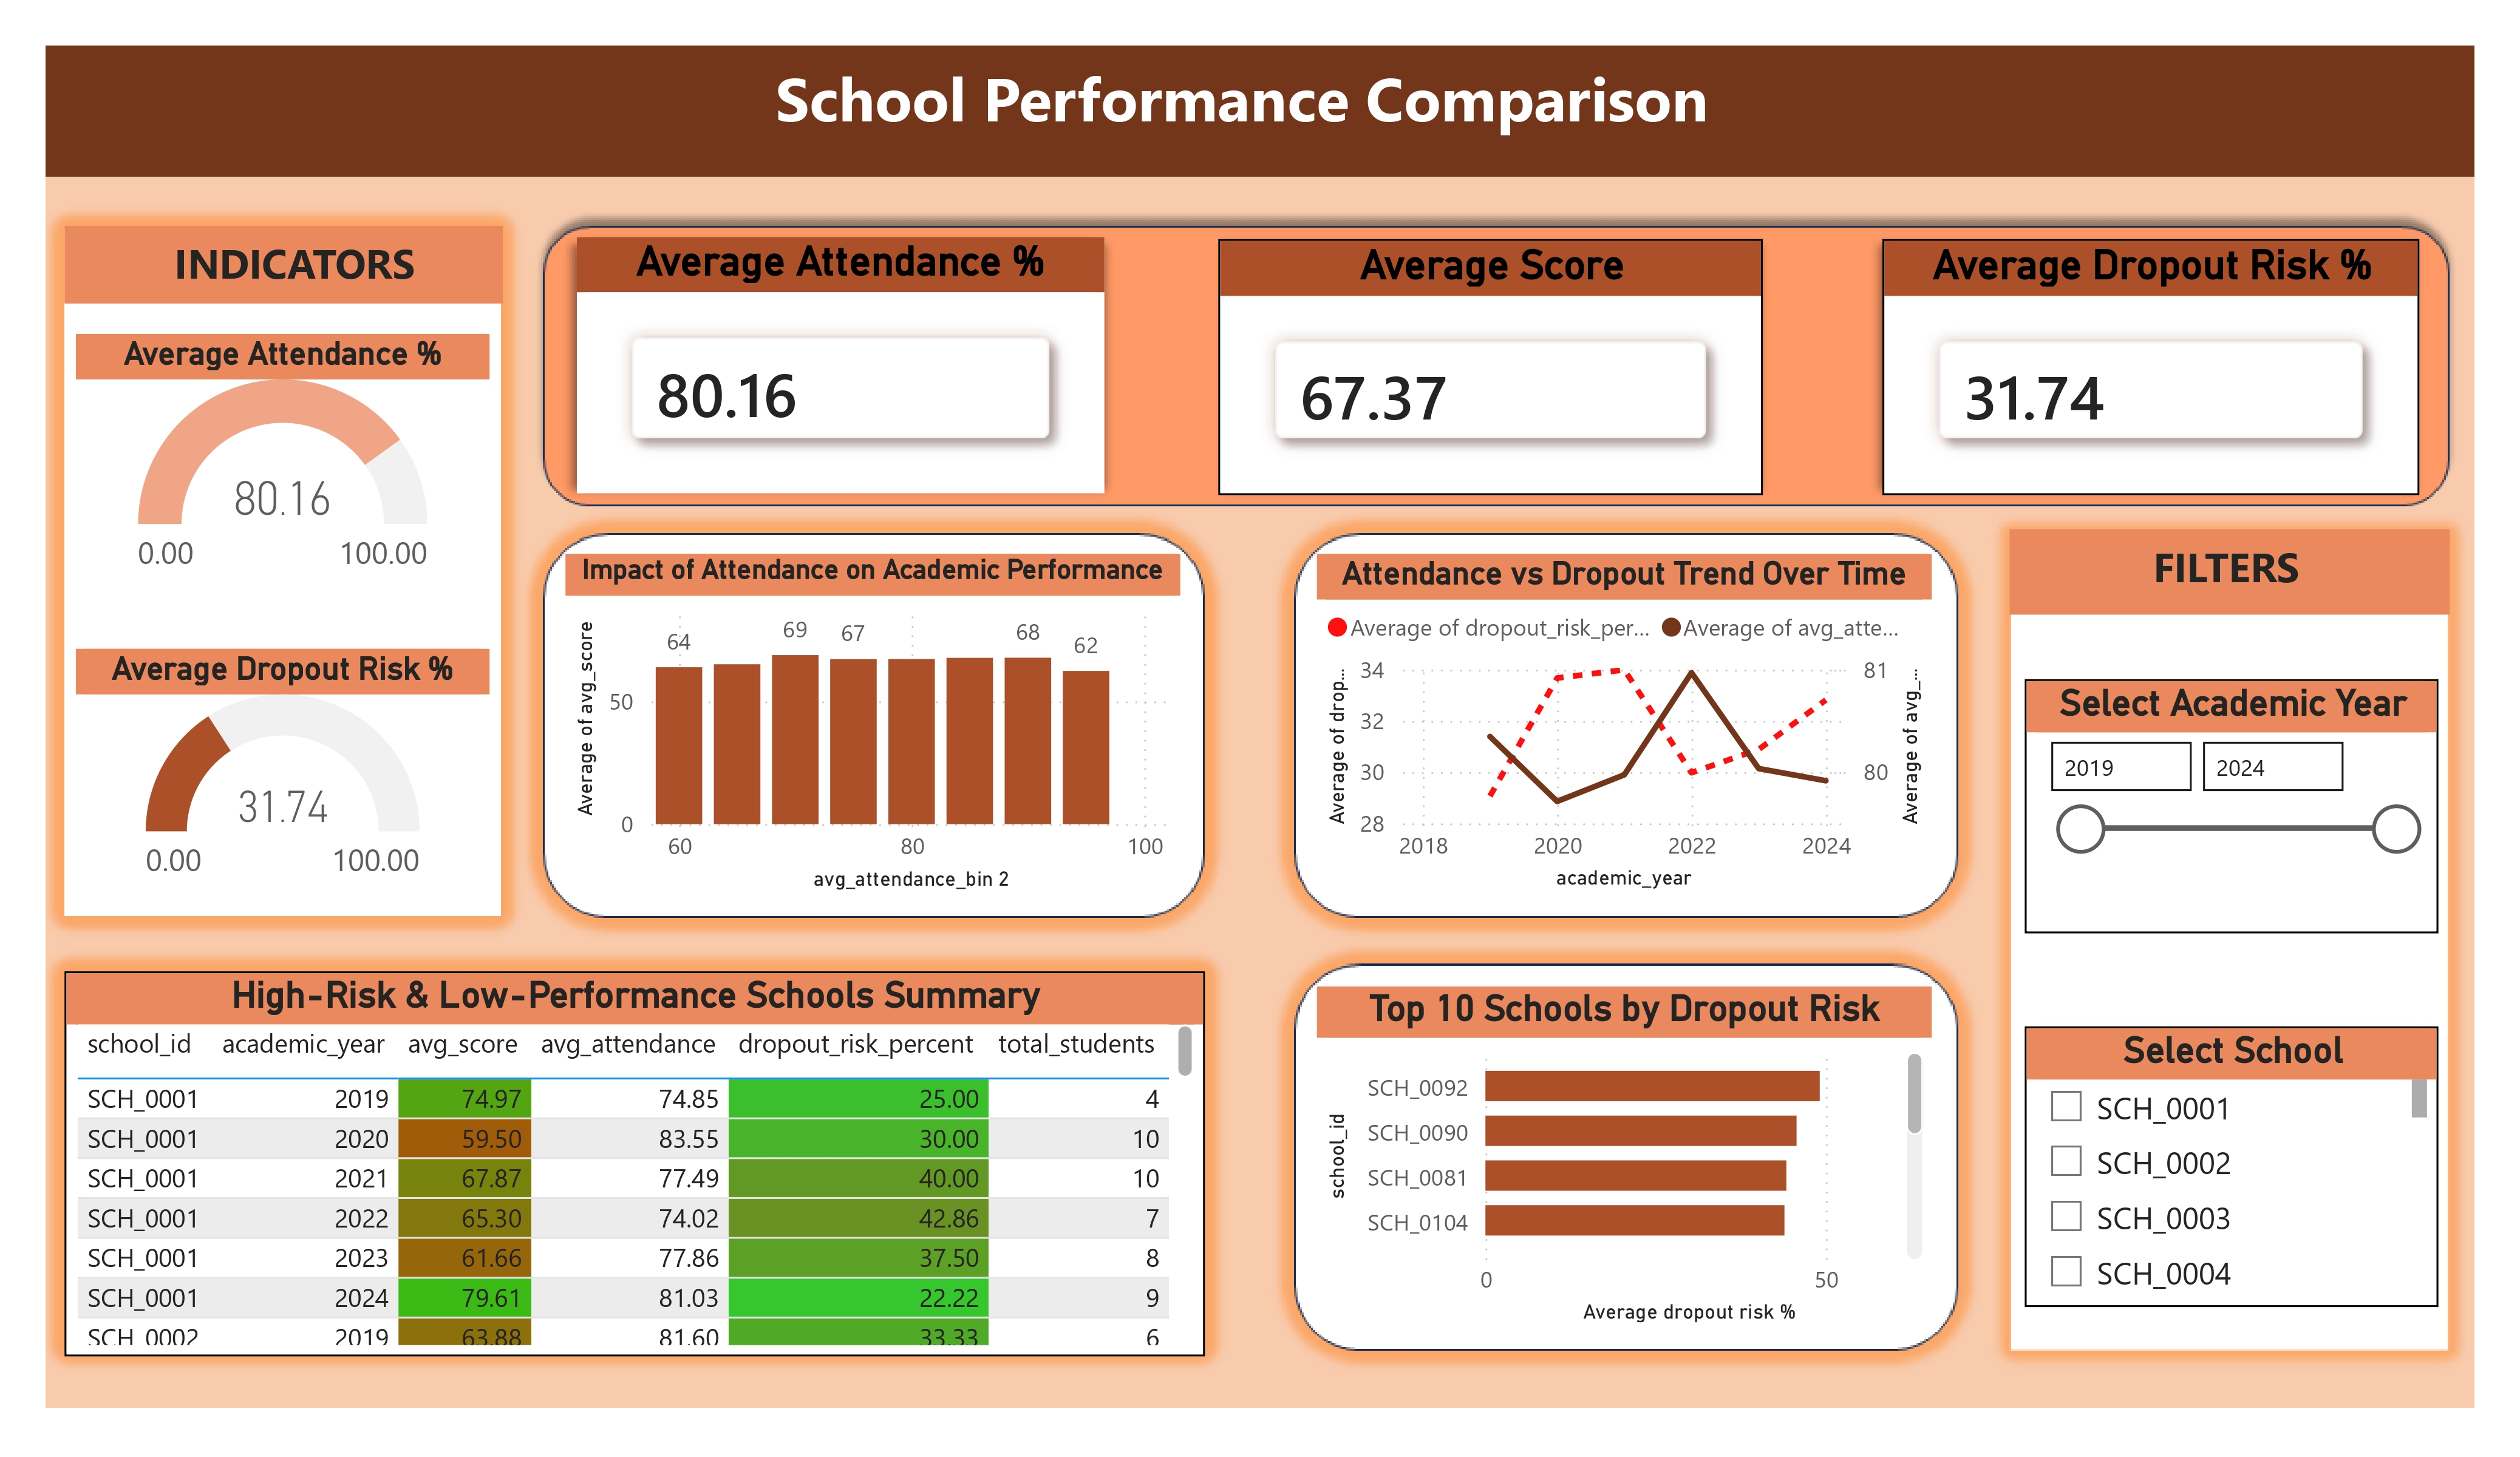

The page's visual inventory and layout, read from the dashboard file:
{"tool":"powerbi","page":{"name":"School Performance Comparison","canvas":[1280,720],"ordinal":1},"visuals":[{"type":"cardVisual","title":"Average Attendance %","fields":{"Data":["Avg(performance_analytics.avg_attendance)"]},"box":[280,101.1,277.8,134.4],"z":0},{"type":"cardVisual","title":"Average Score","fields":{"Data":["Avg(performance_analytics.avg_score)"]},"box":[618.3,101.7,286.7,135],"z":1000},{"type":"cardVisual","title":"Average Dropout Risk %","fields":{"Data":["Avg(performance_analytics.dropout_rate_percent)"]},"box":[968.3,101.7,282.5,135],"z":2000},{"type":"clusteredColumnChart","title":"Impact of Attendance on Academic Performance","fields":{"Y":["Avg(performance_analytics.avg_score)"],"Category":["performance_analytics.avg_attendance_bin 2"]},"box":[274.2,267.5,324.2,182.5],"z":3000},{"type":"lineChart","title":"Attendance vs Dropout Trend Over Time","fields":{"Category":["performance_analytics.academic_year"],"Y":["Avg(performance_analytics.dropout_rate_percent)"],"Y2":["Avg(performance_analytics.avg_attendance)"]},"box":[670,267.7,323.8,182.3],"z":4000},{"type":"tableEx","title":"High-Risk & Low-Performance Schools Summary","fields":{"Values":["performance_analytics.school_id","performance_analytics.academic_year","performance_analytics.avg_score","performance_analytics.avg_attendance","Sum(performance_analytics.dropout_rate_percent)","performance_analytics.total_students"]},"box":[10,487.5,600.8,203.3],"z":5000},{"type":"clusteredBarChart","title":"Top 10 Schools by Dropout Risk","fields":{"Y":["Avg(performance_analytics.dropout_rate_percent)"],"Category":["performance_analytics.school_id"]},"box":[670,496.2,323.8,181.2],"z":6000},{"type":"slicer","title":"Select Academic Year","fields":{"Values":["performance_analytics.academic_year"]},"box":[1043,334,218,134],"z":7000},{"type":"slicer","title":"Select School","fields":{"Values":["performance_analytics.school_id"]},"box":[1043,517,218,148],"z":8000},{"type":"gauge","title":"Average Attendance %","fields":{"Y":["Avg(performance_analytics.avg_attendance)"]},"box":[15.8,151.7,218.3,137.5],"z":9000},{"type":"gauge","title":"Average Dropout Risk %","fields":{"Y":["Avg(performance_analytics.dropout_rate_percent)"]},"box":[15.8,318.3,218.3,132.5],"z":10000},{"type":"textbox","box":[0,0,1280,68.6],"z":11000},{"type":"textbox","box":[10,94.6,230.8,41.5],"z":12000},{"type":"textbox","box":[1035.4,255.4,231.5,44.6],"z":13000}]}

Visuals, with their boxes in screenshot pixels (x1, y1, x2, y2):
"Average Attendance %" cardVisual: [577,237,1104,492]
"Average Score" cardVisual: [1219,239,1763,495]
"Average Dropout Risk %" cardVisual: [1883,239,2419,495]
"Impact of Attendance on Academic Performance" clusteredColumnChart: [566,553,1181,899]
"Attendance vs Dropout Trend Over Time" lineChart: [1317,554,1932,899]
"High-Risk & Low-Performance Schools Summary" tableEx: [64,970,1205,1356]
"Top 10 Schools by Dropout Risk" clusteredBarChart: [1317,987,1932,1331]
"Select Academic Year" slicer: [2025,679,2439,934]
"Select School" slicer: [2025,1027,2439,1307]
"Average Attendance %" gauge: [75,333,490,594]
"Average Dropout Risk %" gauge: [75,650,490,901]
textbox: [46,46,2474,175]
textbox: [64,225,503,304]
textbox: [2011,530,2450,614]
